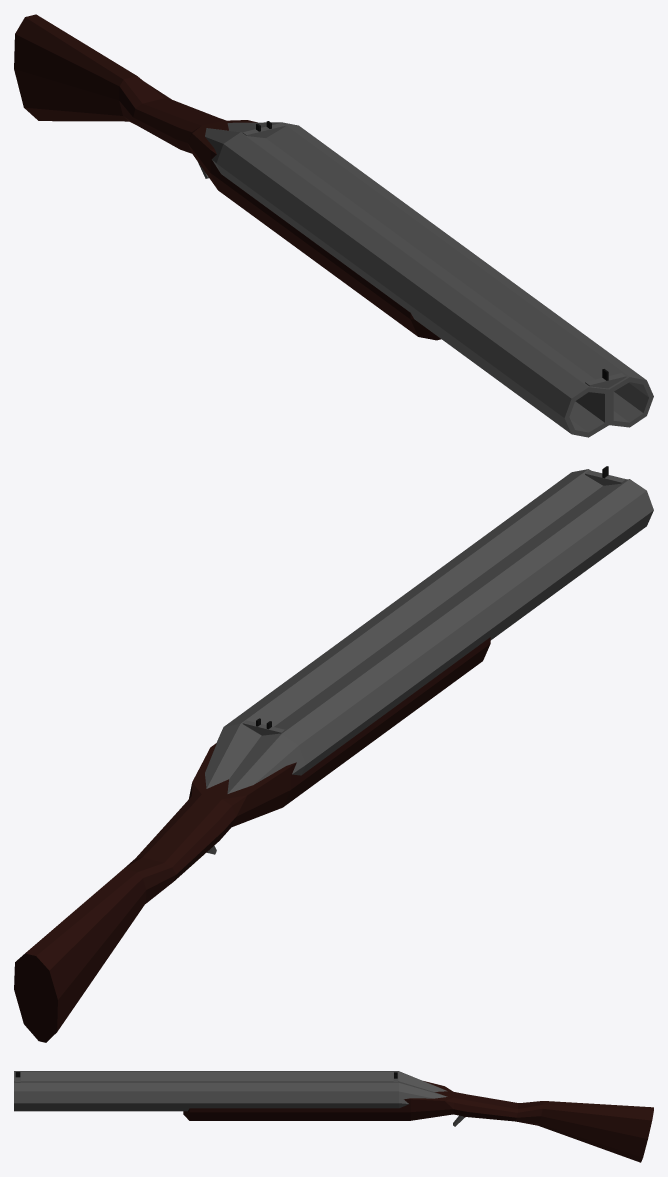
Rendered from shotgun.fbx.
3 views of the same model, one above another, from view 1: azimuth 30°, elevation 25°; view 2: azimuth 150°, elevation 25°; view 3: azimuth 270°, elevation 25° (orthographic). The views are drawn at different scales.
Parts seen in each view (by area): view 1: Cylinder; view 2: Cylinder; view 3: Cylinder.
Part boxes in pixels (x1=…): Cylinder: x1=14, y1=14, x2=653, y2=437; Cylinder: x1=14, y1=466, x2=653, y2=1042; Cylinder: x1=14, y1=1071, x2=653, y2=1162.
Bounding box in the file's own units: 18.55 × 32.08 × 208.
